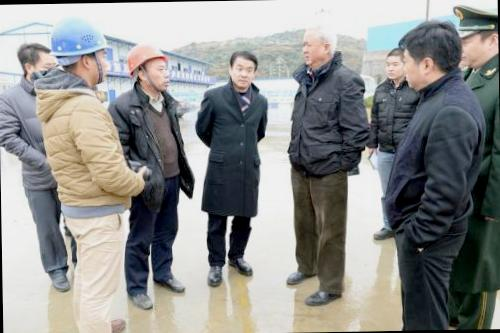no_helmet: (394, 19, 462, 90), (298, 19, 340, 72), (224, 47, 263, 88), (14, 40, 55, 78), (380, 39, 408, 88)
